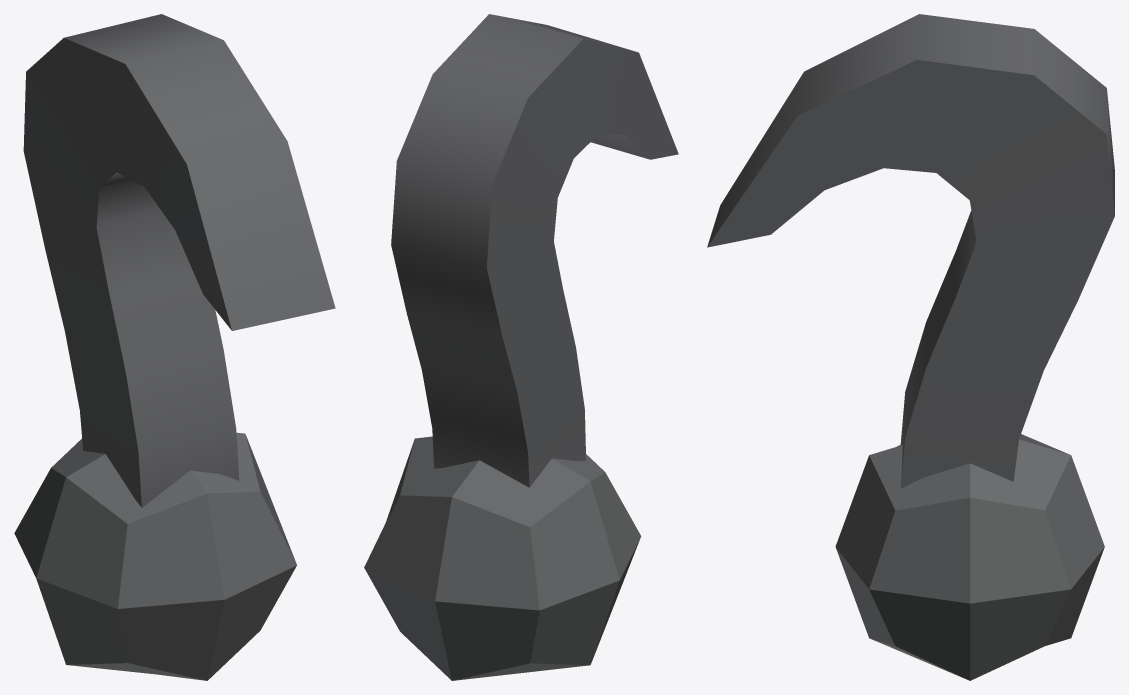
The model's file is CasaAzul_7.FBX.
3 views of the same model, side by side, from view 1: azimuth 30°, elevation 25°; view 2: azimuth 150°, elevation 25°; view 3: azimuth 270°, elevation 25° (orthographic). The views are drawn at different scales.
Visible parts, largest first — view 1: CasaAzul_7; view 2: CasaAzul_7; view 3: CasaAzul_7.
Part boxes in pixels (<box>): CasaAzul_7: <box>14,14,335,680</box>; CasaAzul_7: <box>364,14,678,680</box>; CasaAzul_7: <box>707,14,1114,680</box>.
Bounding box in the file's own units: 9.64 × 24.81 × 14.59.
